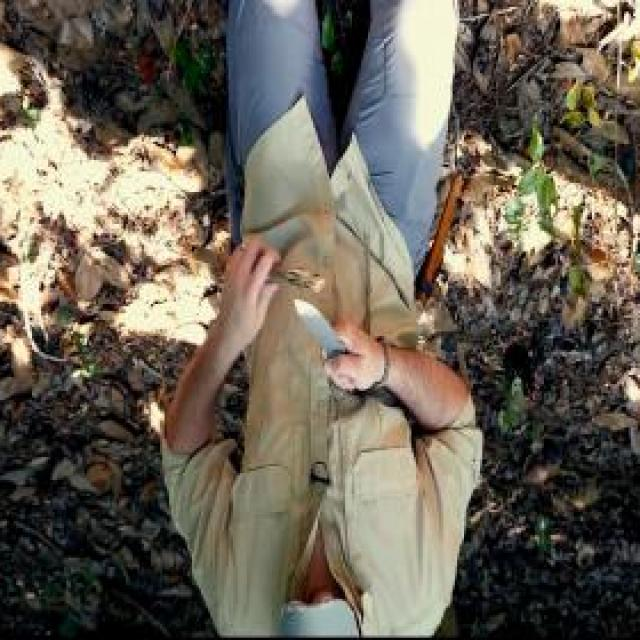knife: (291, 292, 382, 398)
